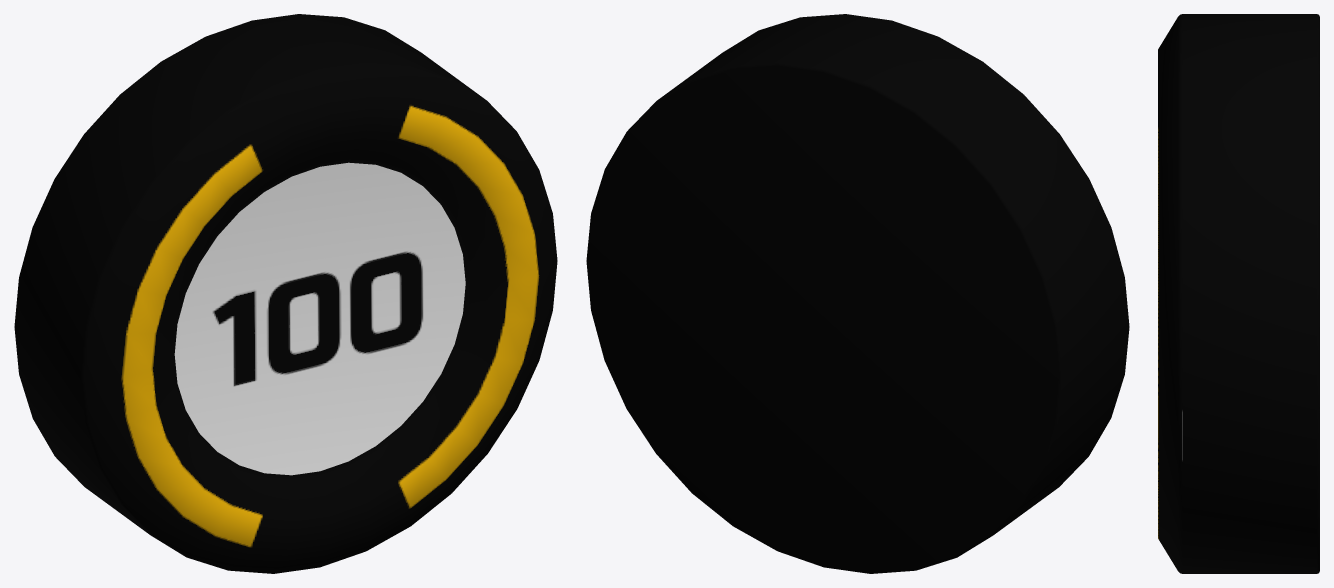
File: Tire Brake Marker 100.fbx
The picture shows the model from 3 angles, left to right: view 1: azimuth 30°, elevation 25°; view 2: azimuth 150°, elevation 25°; view 3: azimuth 270°, elevation 25°; orthographic projection.
Parts seen in each view (by area): view 1: Tire Brake Marker 100; view 2: Tire Brake Marker 100; view 3: Tire Brake Marker 100.
Part boxes in pixels (x1,y1,x2,y2): Tire Brake Marker 100: (14, 14, 557, 573); Tire Brake Marker 100: (586, 14, 1129, 573); Tire Brake Marker 100: (1158, 14, 1319, 573).
Size of the model in its own units: 200 by 200 by 57.71.
